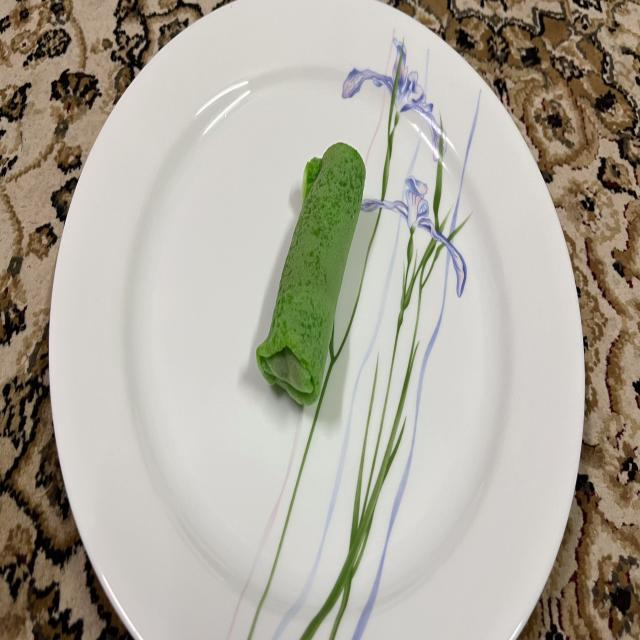Kuih-Ketayap: (256, 142, 365, 404)
